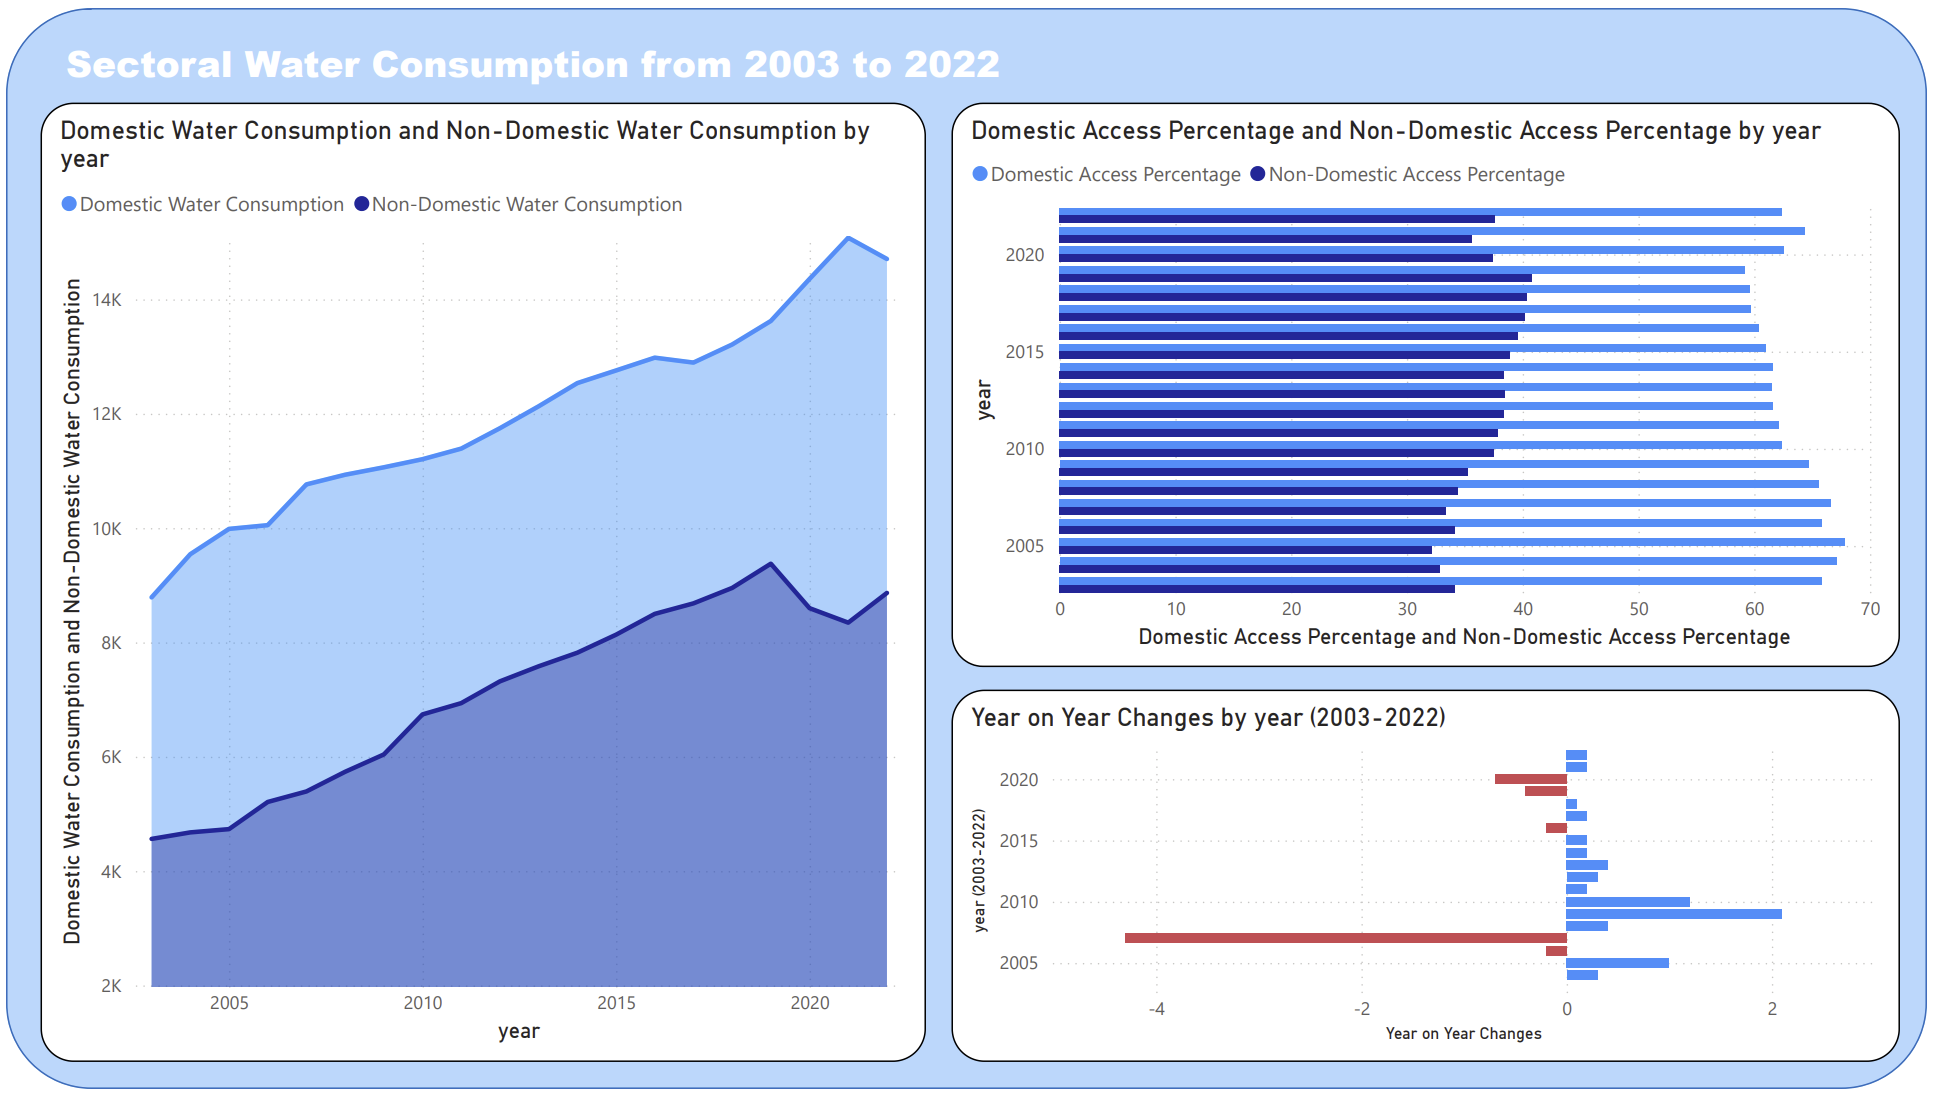

What the dashboard file says about the page in this screenshot:
{"tool":"powerbi","page":{"name":"Sectoral Consumption","canvas":[1280,720],"ordinal":2},"visuals":[{"type":"shape","box":[0,0,1280,720],"z":0},{"type":"lineChart","fields":{"Category":["Sector Consumption.year"],"Y":["Sum(Sector Consumption.domestic_consumption)","Sum(Sector Consumption.nondomestic_consumption)"]},"box":[23.3,63.3,590,638.9],"z":1000},{"type":"clusteredBarChart","fields":{"Category":["Sector Consumption.year"],"Y":["Sum(Sector Consumption.domestic_pct)","Sum(Sector Consumption.nondomestic_pct)"]},"box":[630,63.3,632.2,375.6],"z":2000},{"type":"clusteredBarChart","fields":{"Category":["Year-over-Year Access.year"],"Y":["Sum(Year-over-Year Access.yoy_change)"]},"box":[630,454.4,632.2,247.8],"z":3000},{"type":"textbox","box":[34.9,15.3,700.8,46.9],"z":4000}]}

Visuals, with their boxes in screenshot pixels (x1, y1, x2, y2), scaled from the page's 1280x720 canvas onto the 1937x1098 screenshot:
shape: 0/0/1936/1097
lineChart - Sector Consumption.year x Sum(Sector Consumption.domestic_consumption): 35/97/928/1071
clusteredBarChart - Sector Consumption.year x Sum(Sector Consumption.domestic_pct): 953/97/1910/669
clusteredBarChart - Year-over-Year Access.year x Sum(Year-over-Year Access.yoy_change): 953/693/1910/1071
textbox: 53/23/1113/95
